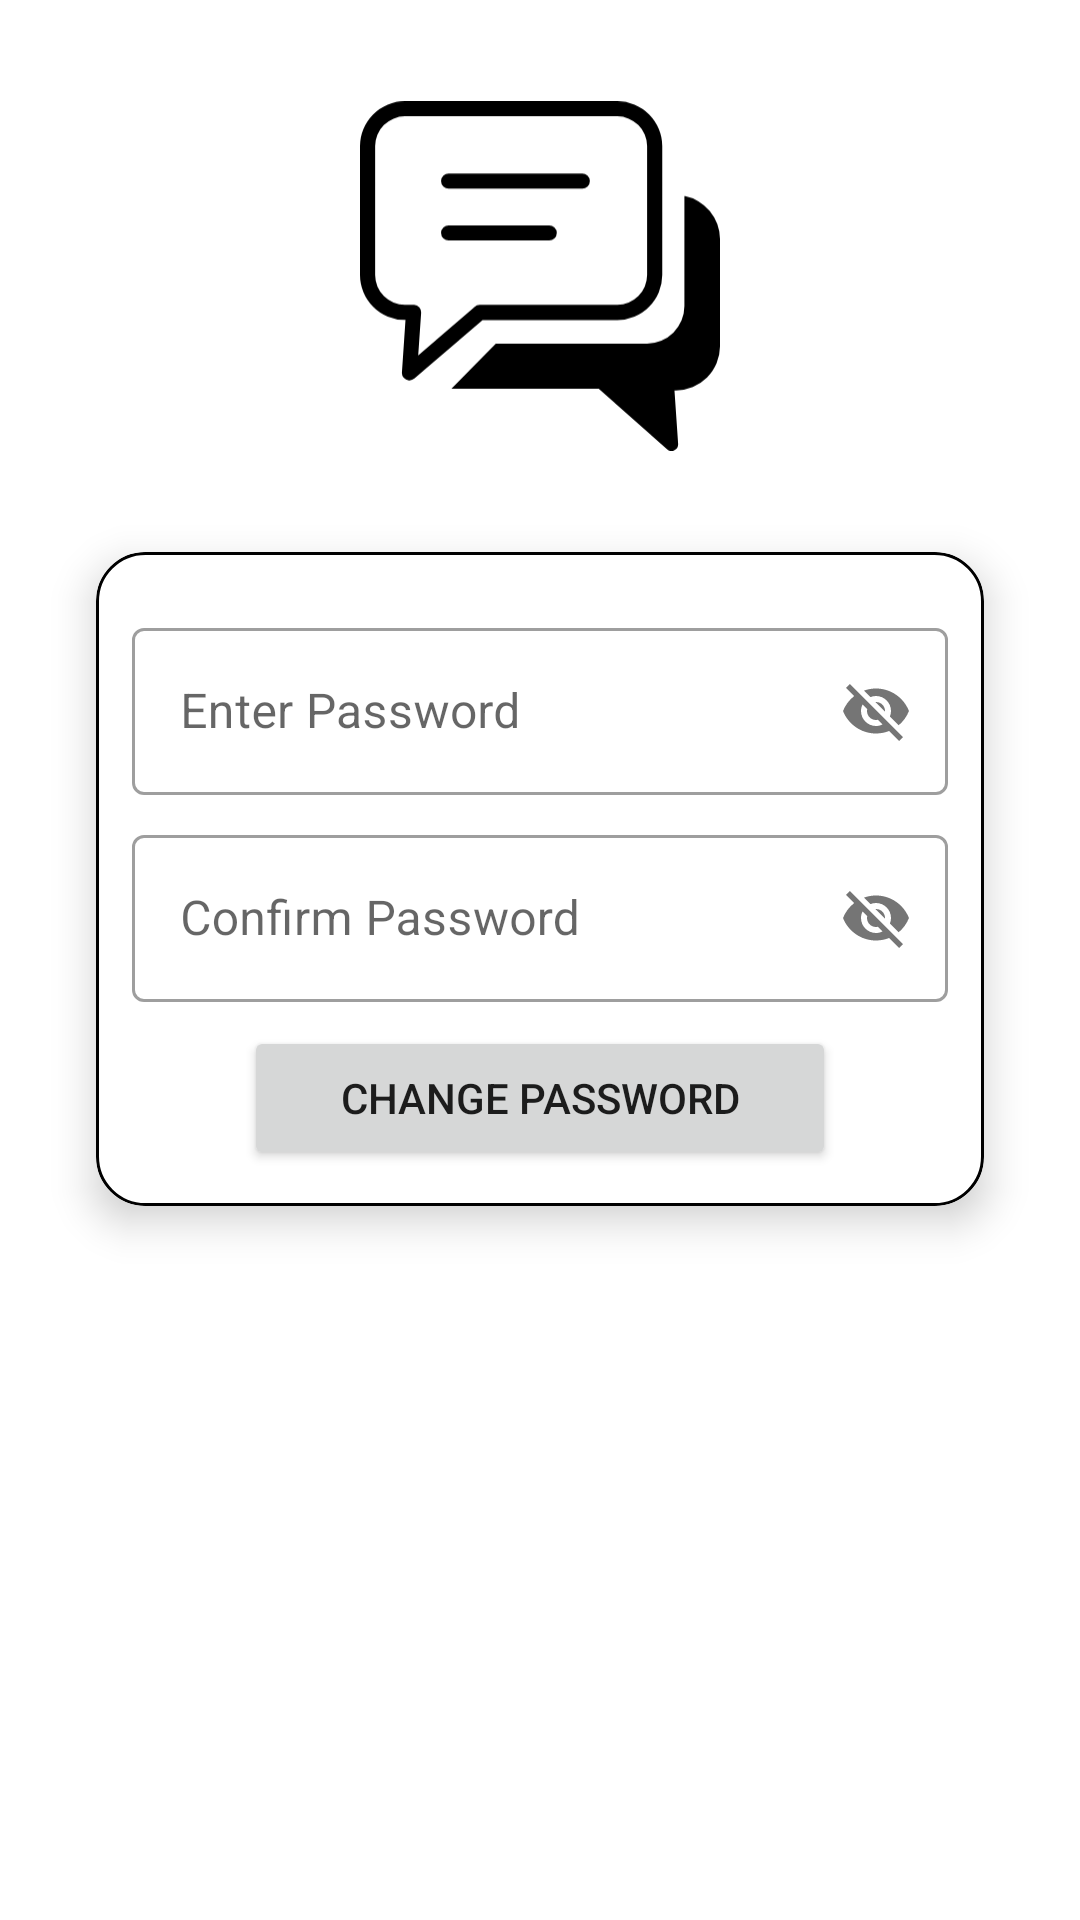

Named icons in this screenshot (1080px x 1920px) and their bounding boxes, (x1, y1, x2, y2):
chat box: (360, 101, 720, 451)
